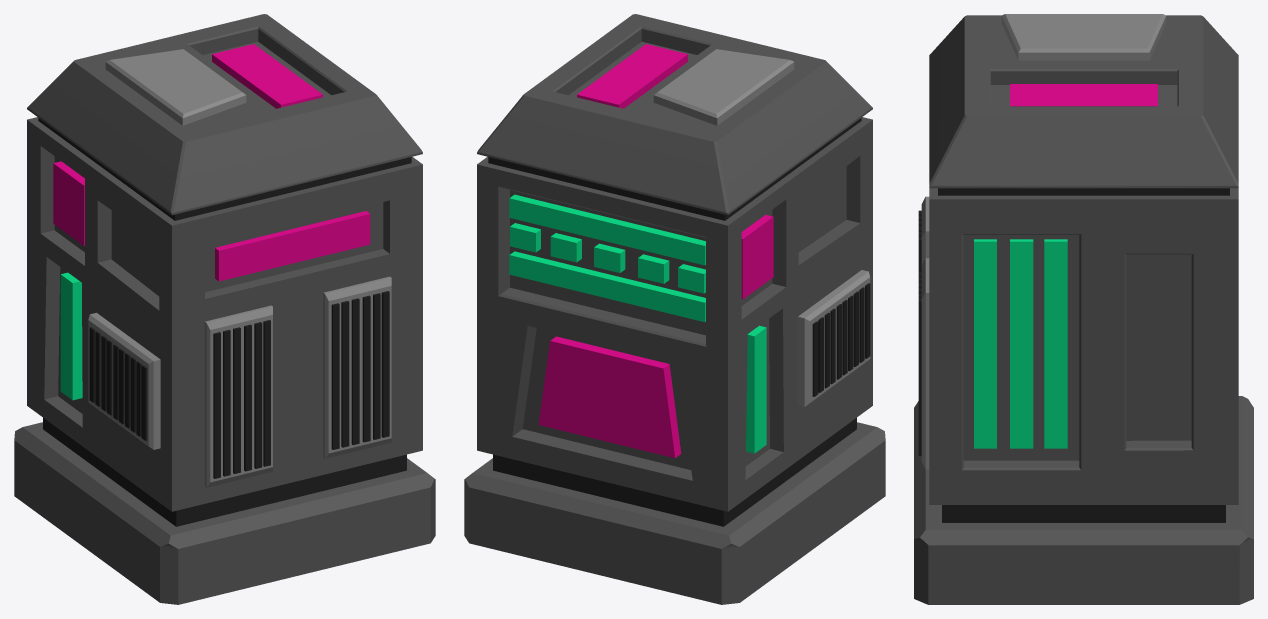
File: power_supplie.fbx
The picture shows the model from 3 angles, left to right: view 1: azimuth 30°, elevation 25°; view 2: azimuth 150°, elevation 25°; view 3: azimuth 270°, elevation 25°; orthographic projection. The views are drawn at different scales.
Parts seen in each view (by area): view 1: pCube1, pCube15, pCube14, pCube39, pCube13, pCube26, pCube35, pCube36, pCube33, pCube31, pCube37, pCube38 (+6 smaller); view 2: pCube1, pCube5, pCube6, pCube39, pCube13, pCube26, pCube11, pCube9, pCube10, pCube7, pCube8; view 3: pCube1, pCube3, pCube4, pCube2, pCube39, pCube15, pCube33, pCube14.
Boxes of the visible parts, left/top/right/bottom form: pCube1: left=14, top=14, right=435, bottom=604; pCube15: left=323, top=276, right=391, bottom=458; pCube14: left=204, top=305, right=272, bottom=487; pCube39: left=212, top=44, right=322, bottom=108; pCube13: left=88, top=312, right=160, bottom=449; pCube26: left=60, top=272, right=82, bottom=400; pCube35: left=362, top=295, right=370, bottom=442; pCube36: left=351, top=298, right=359, bottom=445; pCube33: left=381, top=291, right=389, bottom=437; pCube31: left=254, top=322, right=262, bottom=468; pCube37: left=341, top=301, right=349, bottom=447; pCube38: left=331, top=303, right=339, bottom=449; pCube1: left=464, top=14, right=885, bottom=604; pCube5: left=509, top=194, right=705, bottom=265; pCube6: left=509, top=251, right=705, bottom=322; pCube39: left=577, top=44, right=687, bottom=108; pCube13: left=797, top=270, right=870, bottom=406; pCube26: left=746, top=325, right=766, bottom=453; pCube11: left=638, top=254, right=669, bottom=283; pCube9: left=594, top=243, right=625, bottom=272; pCube10: left=550, top=233, right=581, bottom=262; pCube7: left=510, top=223, right=540, bottom=252; pCube8: left=678, top=264, right=705, bottom=293; pCube1: left=914, top=14, right=1253, bottom=604; pCube3: left=1010, top=239, right=1033, bottom=448; pCube4: left=1044, top=239, right=1067, bottom=448; pCube2: left=974, top=239, right=996, bottom=448; pCube39: left=1010, top=84, right=1157, bottom=106; pCube15: left=921, top=258, right=929, bottom=469; pCube33: left=918, top=298, right=921, bottom=455; pCube14: left=921, top=196, right=929, bottom=265.
Bounding box in the file's own units: 0.0656 × 0.102 × 0.0656.
